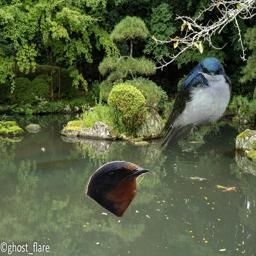Swallow: (156, 56, 232, 151), (85, 160, 151, 217)
